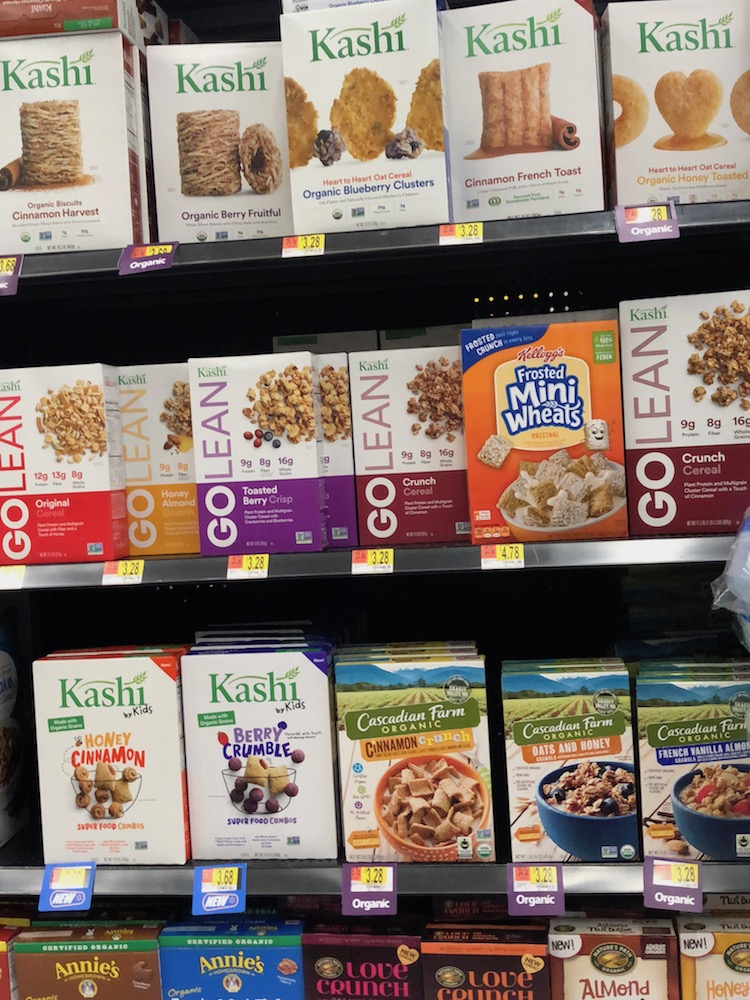Frosted Mini Original -9295869: (458, 332, 630, 542)
